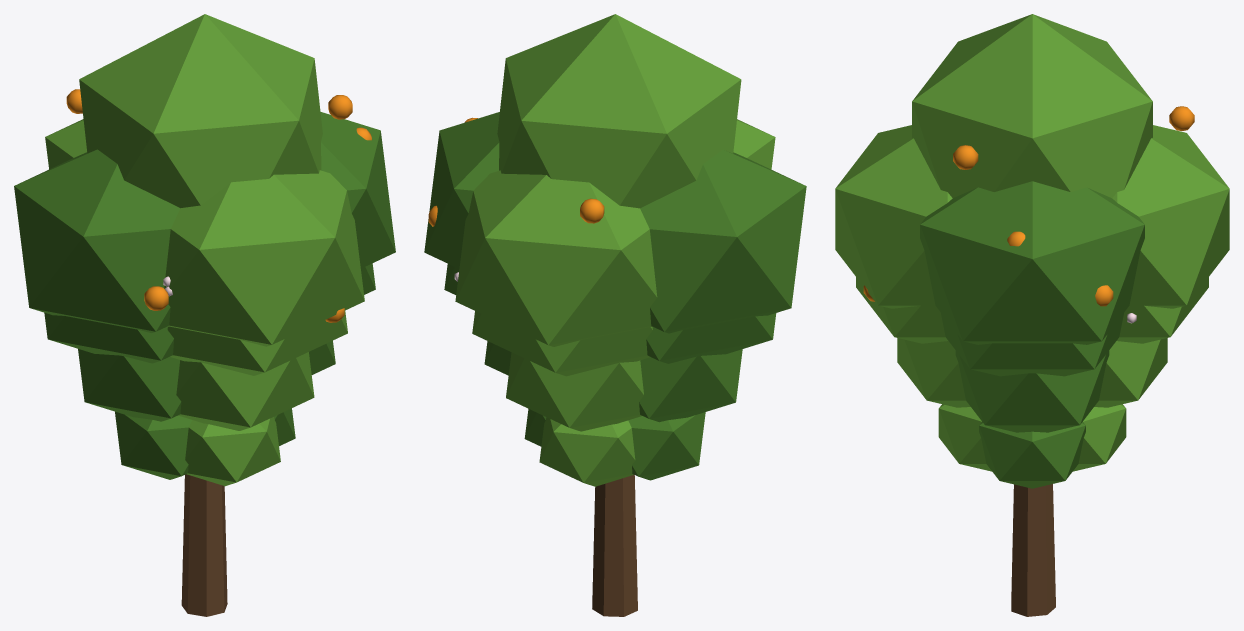
File: Crop_Fruit_Orange.fbx
The picture shows the model from 3 angles, left to right: view 1: azimuth 30°, elevation 25°; view 2: azimuth 150°, elevation 25°; view 3: azimuth 270°, elevation 25°; orthographic projection.
Visible parts, largest first — view 1: Crop_Fruit_Orange__S4, Crop_Fruit_Orange__S2, Crop_Fruit_Orange__S1, Crop_Fruit_Orange__S3; view 2: Crop_Fruit_Orange__S4, Crop_Fruit_Orange__S2, Crop_Fruit_Orange__S1, Crop_Fruit_Orange__S3; view 3: Crop_Fruit_Orange__S4, Crop_Fruit_Orange__S2, Crop_Fruit_Orange__S1, Crop_Fruit_Orange__S3.
Part boxes in pixels (<box>): Crop_Fruit_Orange__S4: <box>14,14,395,616</box>; Crop_Fruit_Orange__S2: <box>78,340,335,430</box>; Crop_Fruit_Orange__S1: <box>115,408,295,486</box>; Crop_Fruit_Orange__S3: <box>44,263,375,375</box>; Crop_Fruit_Orange__S4: <box>424,14,806,616</box>; Crop_Fruit_Orange__S2: <box>484,341,742,431</box>; Crop_Fruit_Orange__S1: <box>524,409,705,486</box>; Crop_Fruit_Orange__S3: <box>444,264,776,376</box>; Crop_Fruit_Orange__S4: <box>835,14,1229,616</box>; Crop_Fruit_Orange__S2: <box>897,338,1167,432</box>; Crop_Fruit_Orange__S1: <box>938,404,1126,488</box>; Crop_Fruit_Orange__S3: <box>856,277,1208,376</box>.
Size of the model in its own units: 0.551 by 0.888 by 0.5353.
